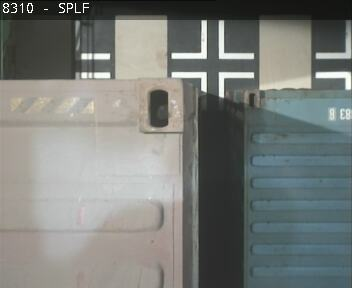groundmarker_1: (171, 71, 255, 113), (170, 20, 253, 60), (316, 20, 351, 89), (74, 20, 110, 80)
